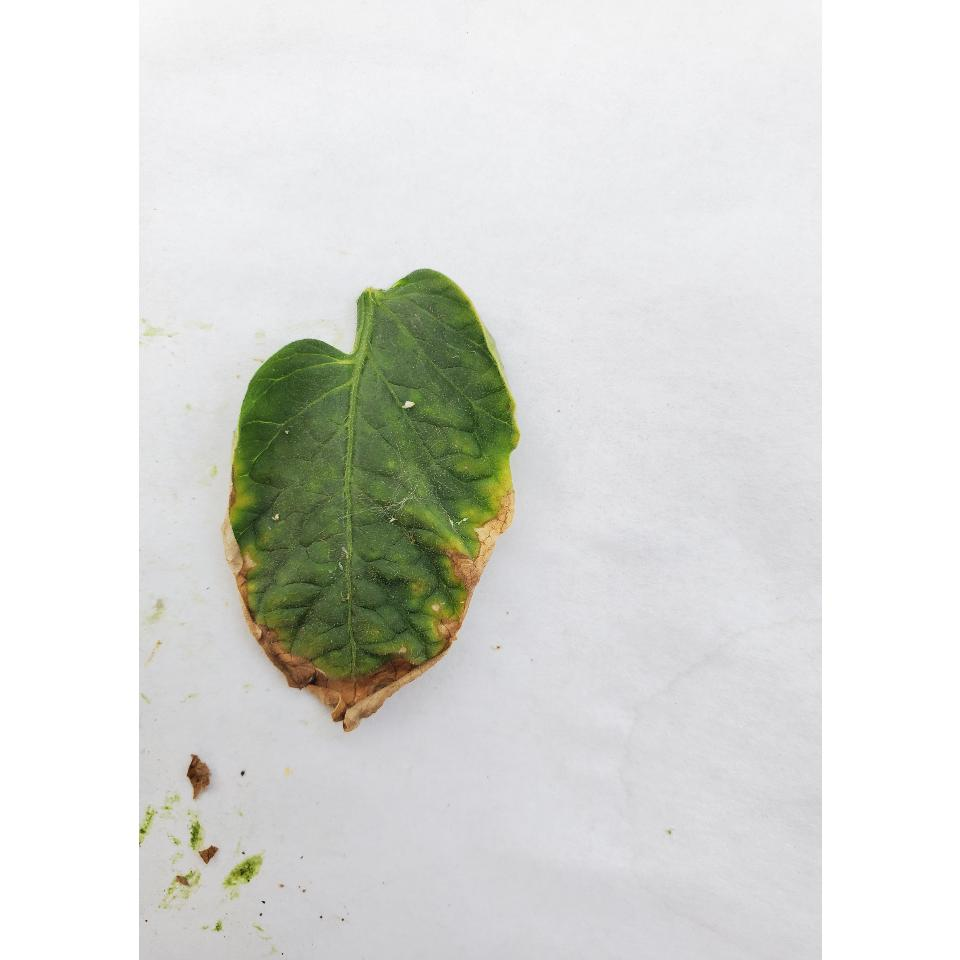tomato_bacterial_blight: (234, 260, 524, 732)
